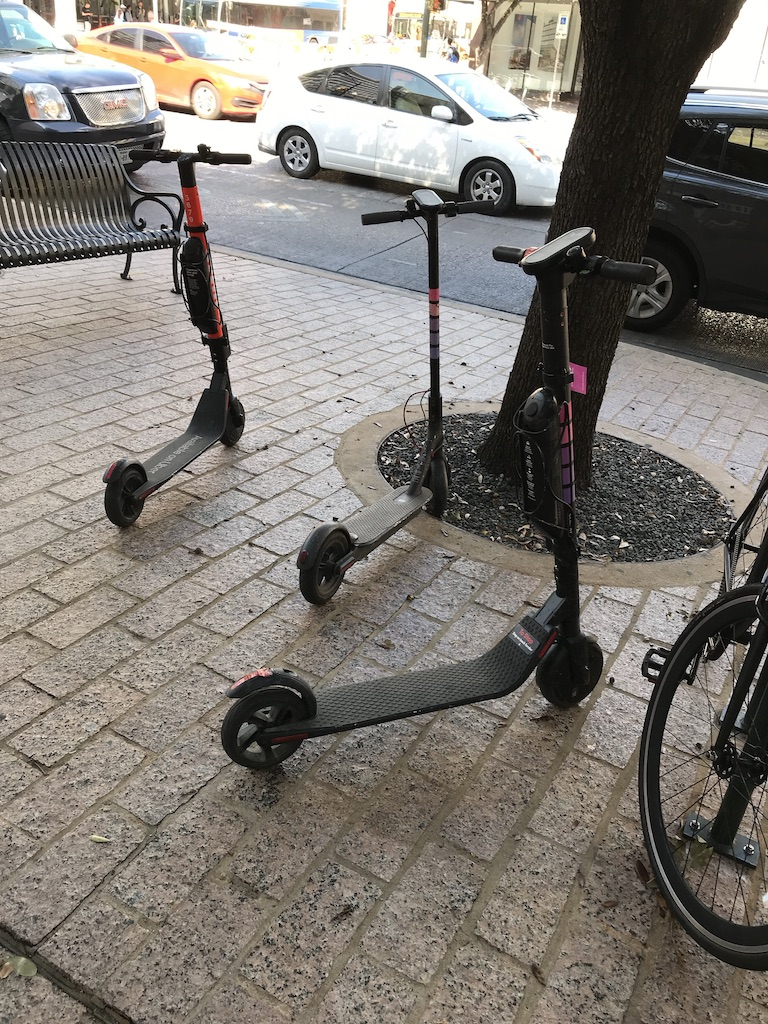scooter: (221, 225, 660, 769), (293, 185, 497, 606), (103, 147, 254, 527)
